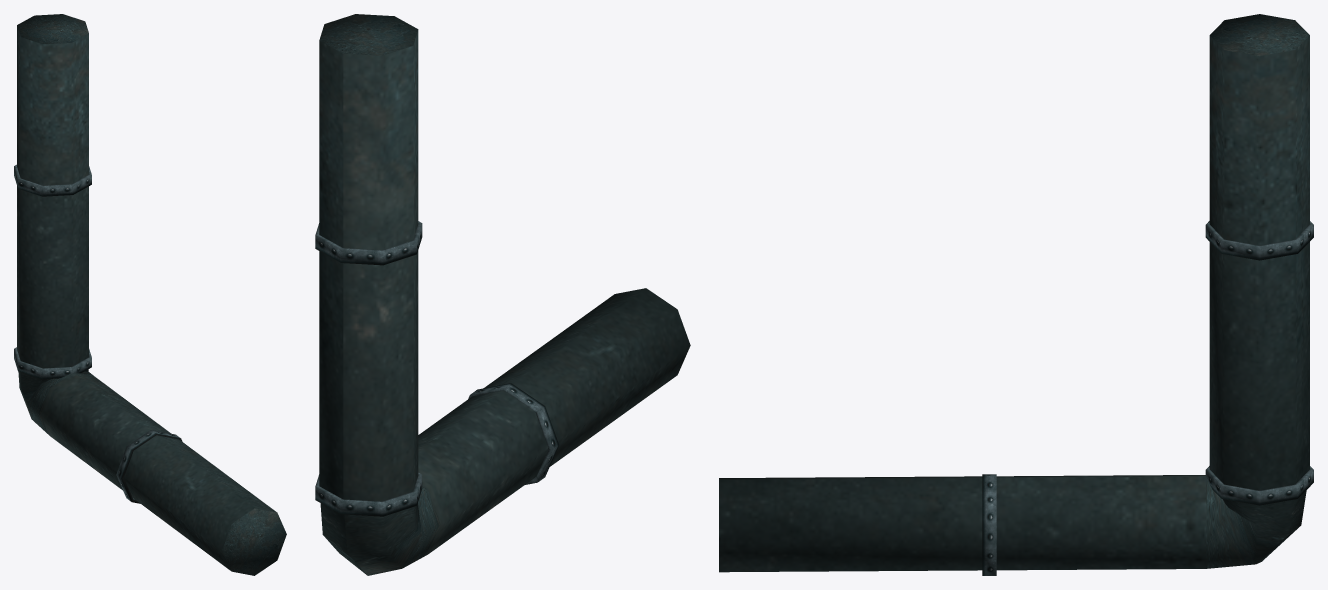
The model's file is pipe big L.glb.
3 renders of one model, left to right at view 1: azimuth 30°, elevation 25°; view 2: azimuth 150°, elevation 25°; view 3: azimuth 270°, elevation 25°, orthographic. The views are drawn at different scales.
Visible parts, largest first — view 1: pipeDob.006; view 2: pipeDob.006; view 3: pipeDob.006.
Part boxes in pixels (<box>): pipeDob.006: <box>14,14,286,575</box>; pipeDob.006: <box>315,14,690,575</box>; pipeDob.006: <box>719,14,1313,575</box>.
Bounding box in the file's own units: 0.8 × 4.4 × 4.4.
Materials: 1 (1 with a texture image).
